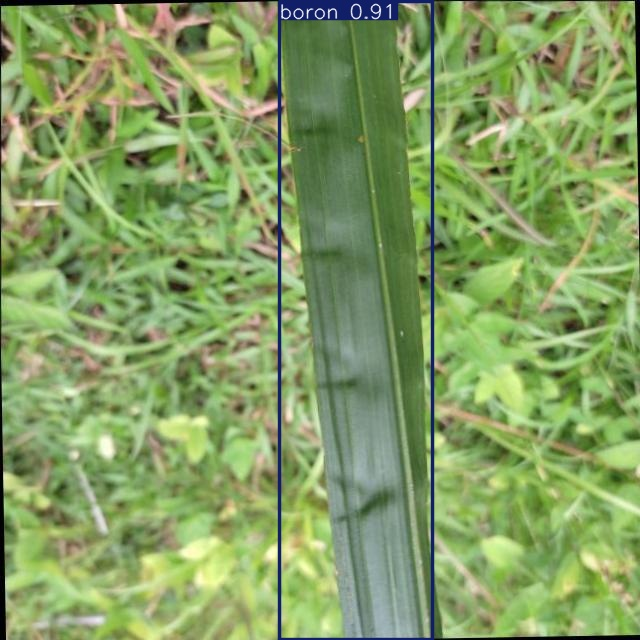nitrogen: (280, 1, 432, 640)
